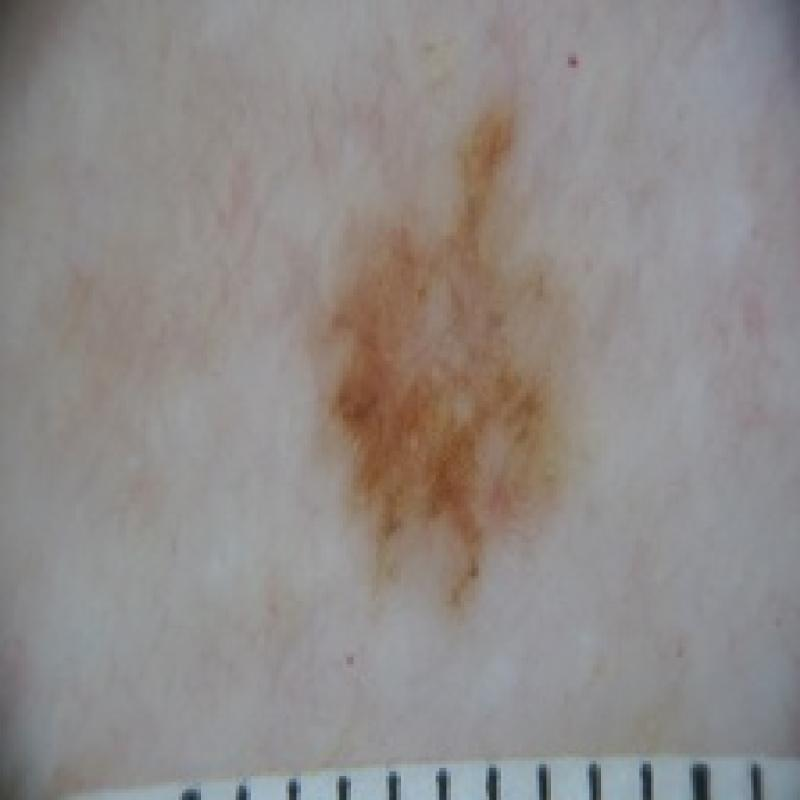malignant: (236, 56, 662, 620)
